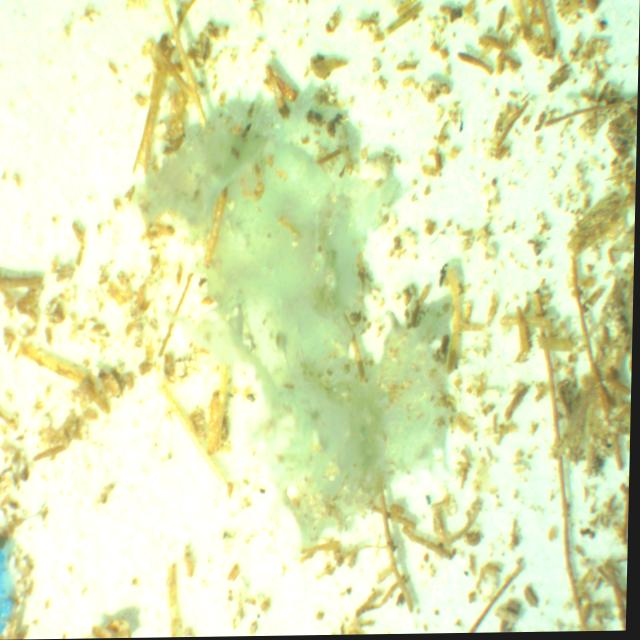microplastic: (148, 94, 454, 538)
